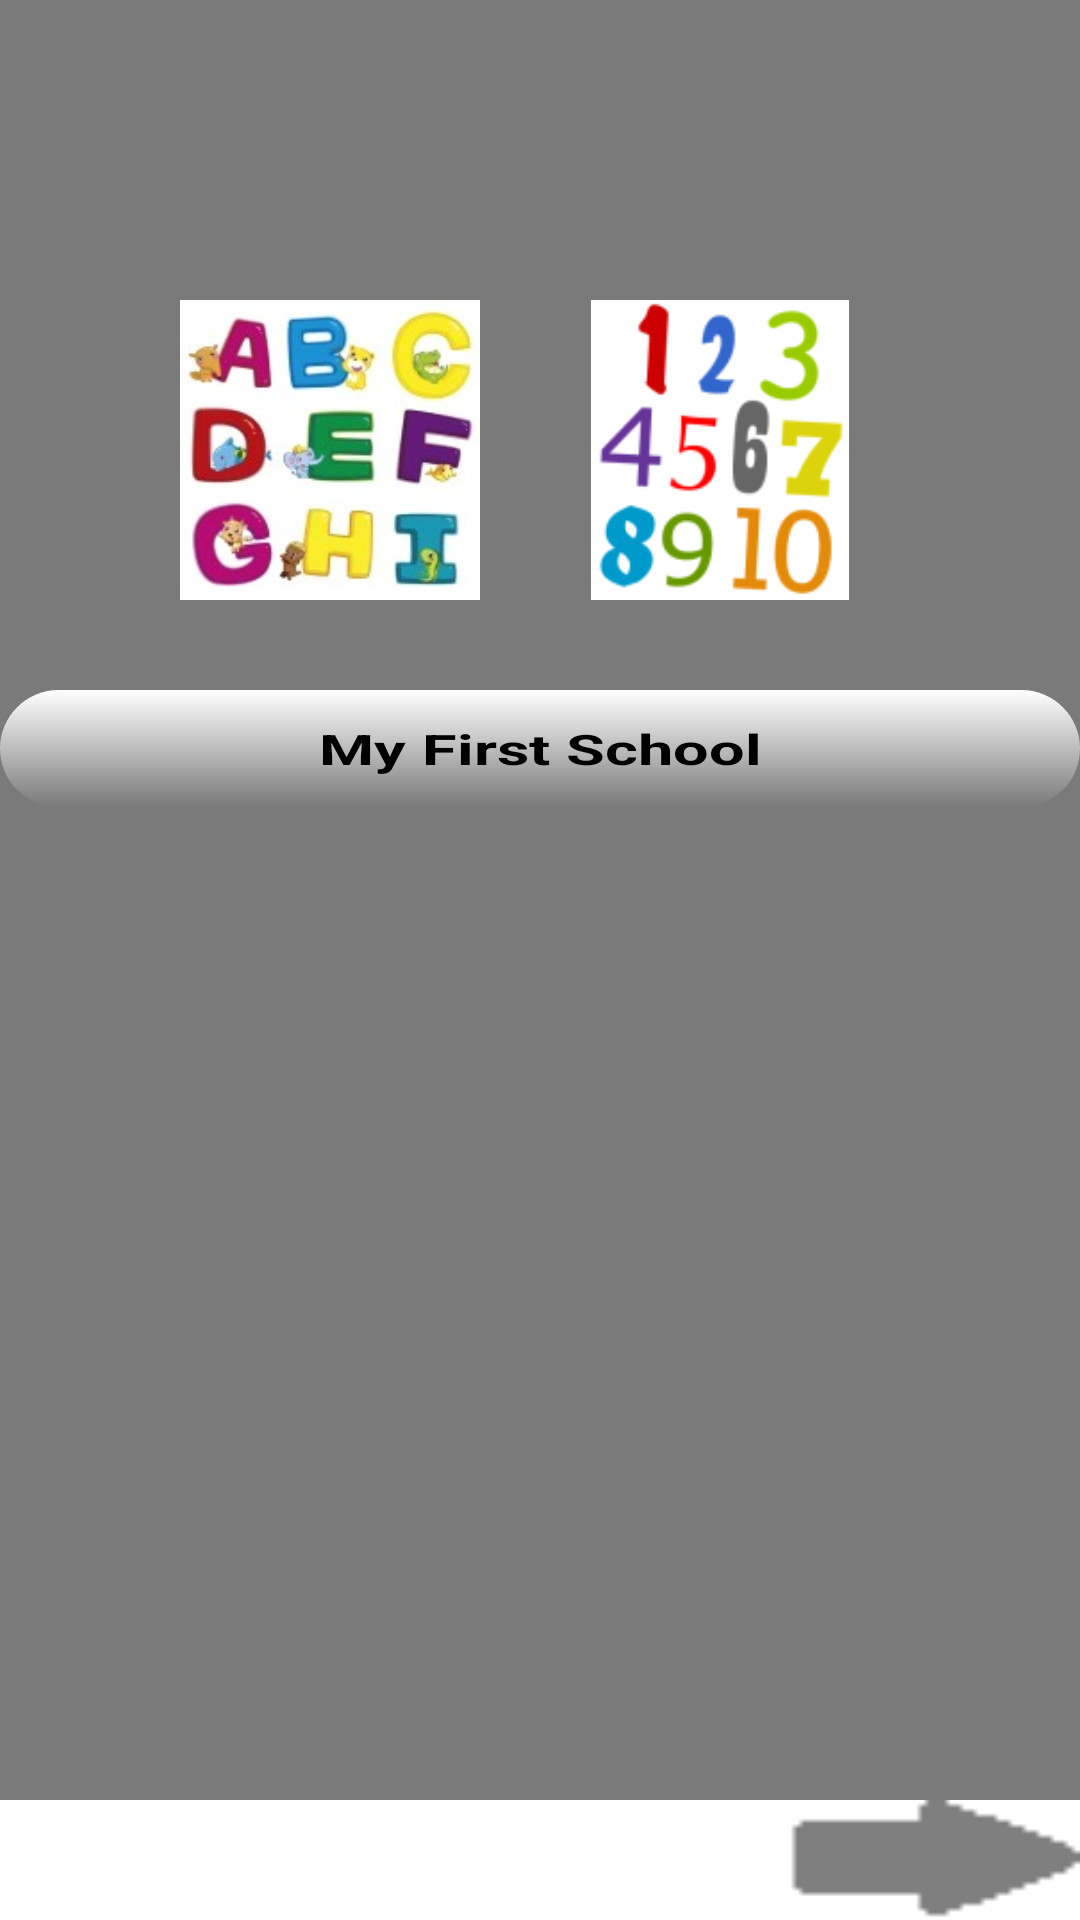

Icons on this 1080px×1920px Android screen, each with the point to tap as point (x, y):
alphabet: point (330, 450)
front arrow: point (936, 1858)
number: point (720, 450)
